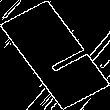L_SW: (20, 28, 90, 82)
